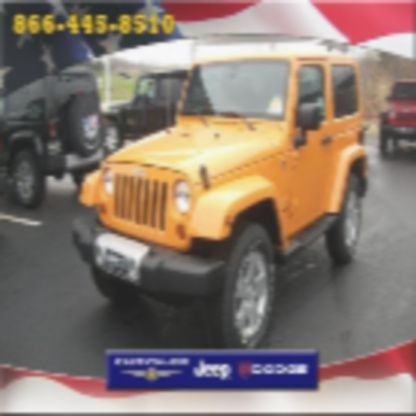Vehicle: (73, 52, 370, 352)
